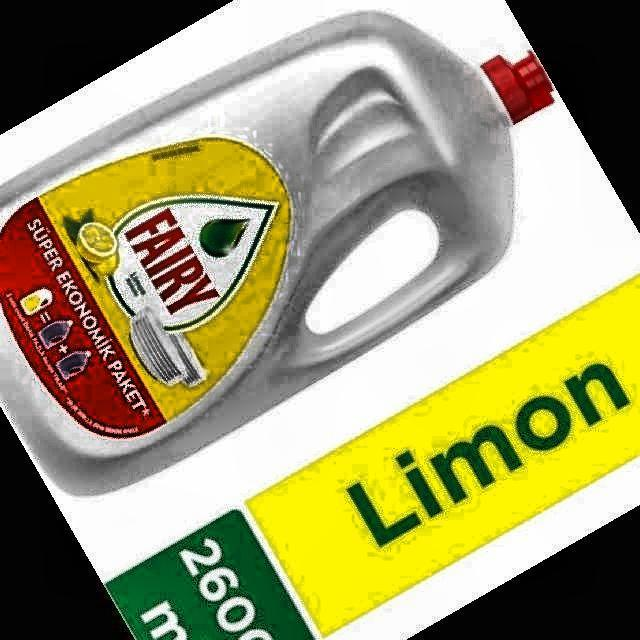plastic: (0, 12, 552, 494)
